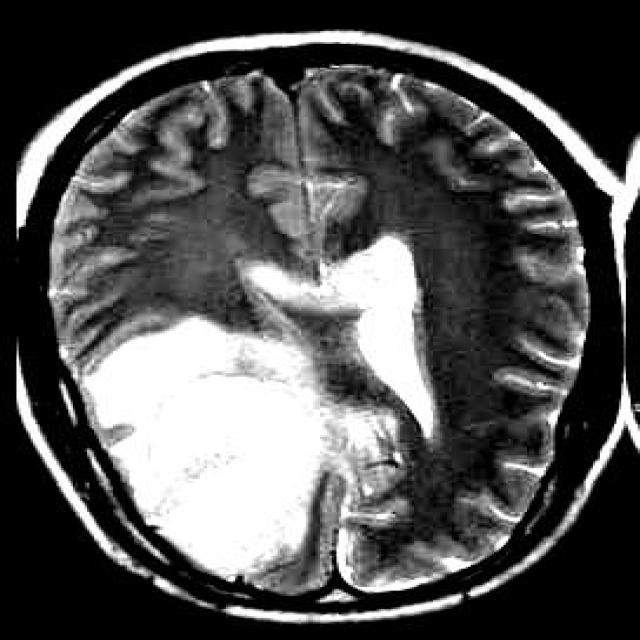Tumor-Cell: (64, 308, 327, 554)
